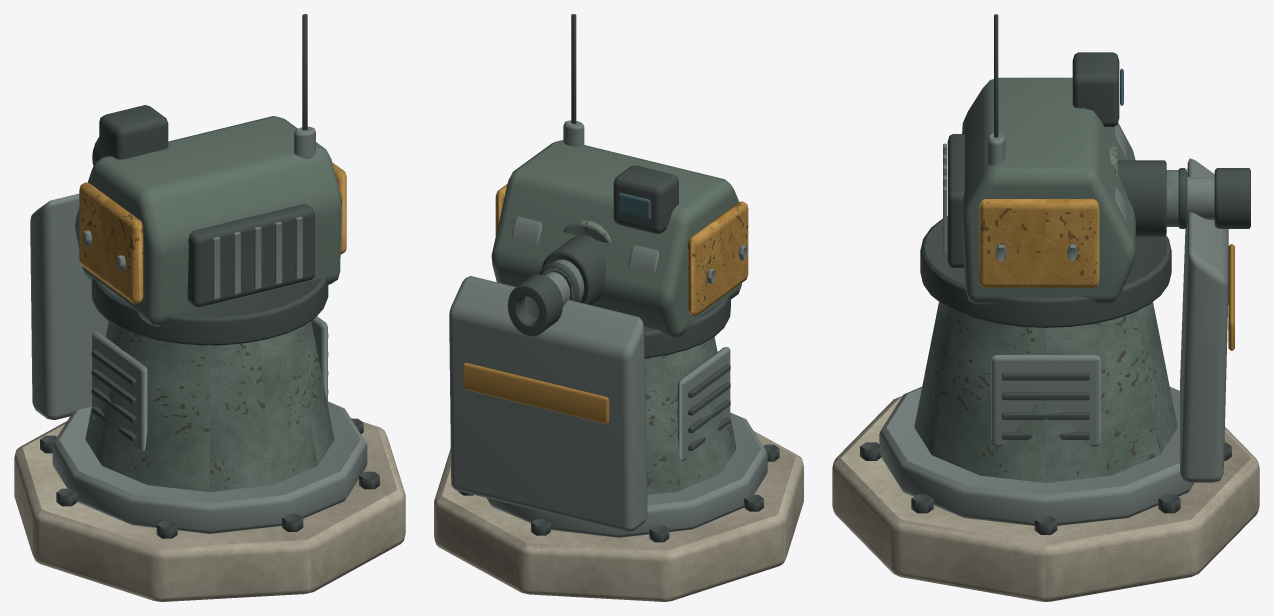
The model's file is sentry-turret.glb.
The picture shows the model from 3 angles, left to right: view 1: azimuth 30°, elevation 25°; view 2: azimuth 150°, elevation 25°; view 3: azimuth 270°, elevation 25°; orthographic projection. The views are drawn at different scales.
Visible parts, largest first — view 1: SentryTurret_Geometry, TurretYaw_Geometry, Shield_Geometry; view 2: SentryTurret_Geometry, Shield_Geometry, TurretYaw_Geometry, Recoil_Geometry, GunPitch_Geometry; view 3: SentryTurret_Geometry, TurretYaw_Geometry, Shield_Geometry, Recoil_Geometry, GunPitch_Geometry.
Part boxes in pixels (x1=…): SentryTurret_Geometry: x1=14, y1=278, x2=405, y2=601; TurretYaw_Geometry: x1=75, y1=14, x2=346, y2=326; Shield_Geometry: x1=30, y1=193, x2=108, y2=419; SentryTurret_Geometry: x1=434, y1=297, x2=803, y2=601; Shield_Geometry: x1=449, y1=276, x2=647, y2=531; TurretYaw_Geometry: x1=491, y1=14, x2=748, y2=338; Recoil_Geometry: x1=507, y1=259, x2=584, y2=336; GunPitch_Geometry: x1=541, y1=220, x2=611, y2=304; SentryTurret_Geometry: x1=832, y1=216, x2=1259, y2=601; TurretYaw_Geometry: x1=943, y1=14, x2=1135, y2=304; Shield_Geometry: x1=1180, y1=158, x2=1234, y2=482; Recoil_Geometry: x1=1166, y1=168, x2=1250, y2=228; GunPitch_Geometry: x1=1109, y1=145, x2=1166, y2=236.
Bounding box in the file's own units: 1.56 × 2.17 × 1.56.
Materials: 7 (3 with a texture image).
